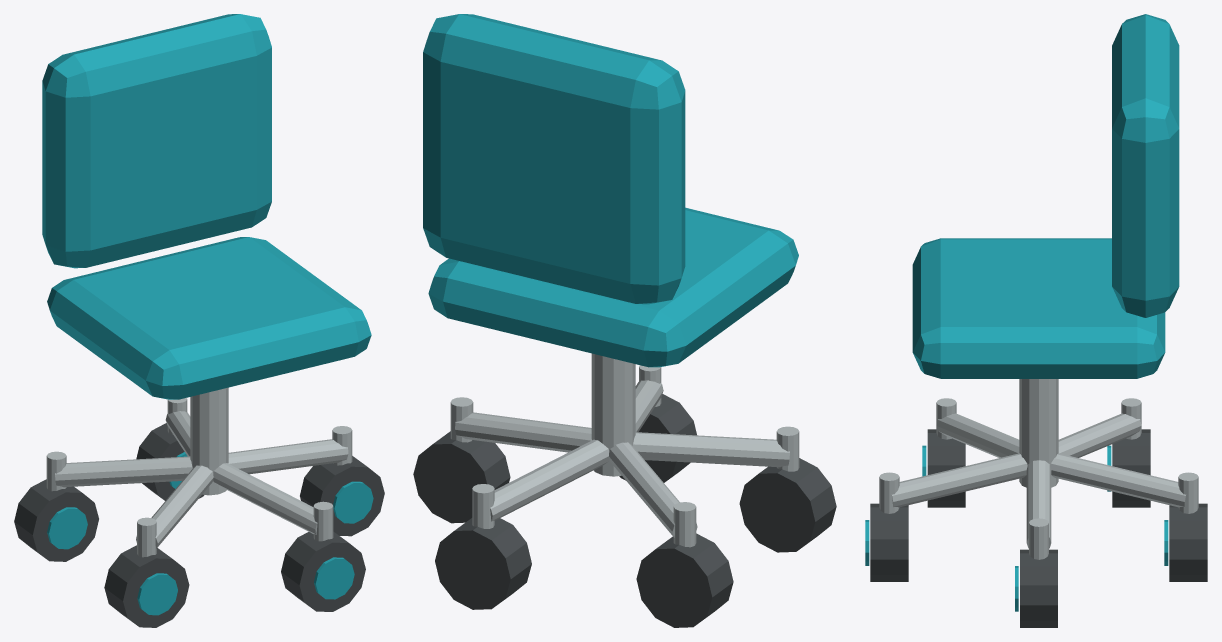
The model's file is clinician_chair_standard.glb.
3 renders of one model, left to right at view 1: azimuth 30°, elevation 25°; view 2: azimuth 150°, elevation 25°; view 3: azimuth 270°, elevation 25°, orthographic. The views are drawn at different scales.
Parts seen in each view (by area): view 1: STATIC_teal.032, STATIC_metal.030, STATIC_rubber.027; view 2: STATIC_teal.032, STATIC_rubber.027, STATIC_metal.030; view 3: STATIC_teal.032, STATIC_metal.030, STATIC_rubber.027.
Part boxes in pixels (x1,y1,x2,y2): STATIC_teal.032: [42, 14, 373, 615]; STATIC_metal.030: [46, 387, 352, 557]; STATIC_rubber.027: [14, 423, 384, 627]; STATIC_teal.032: [423, 14, 798, 367]; STATIC_rubber.027: [413, 394, 836, 627]; STATIC_metal.030: [450, 353, 799, 547]; STATIC_teal.032: [865, 14, 1179, 611]; STATIC_metal.030: [879, 379, 1198, 559]; STATIC_rubber.027: [870, 429, 1207, 627].
Bounding box in the file's own units: 0.6465 × 0.985 × 0.6096.
